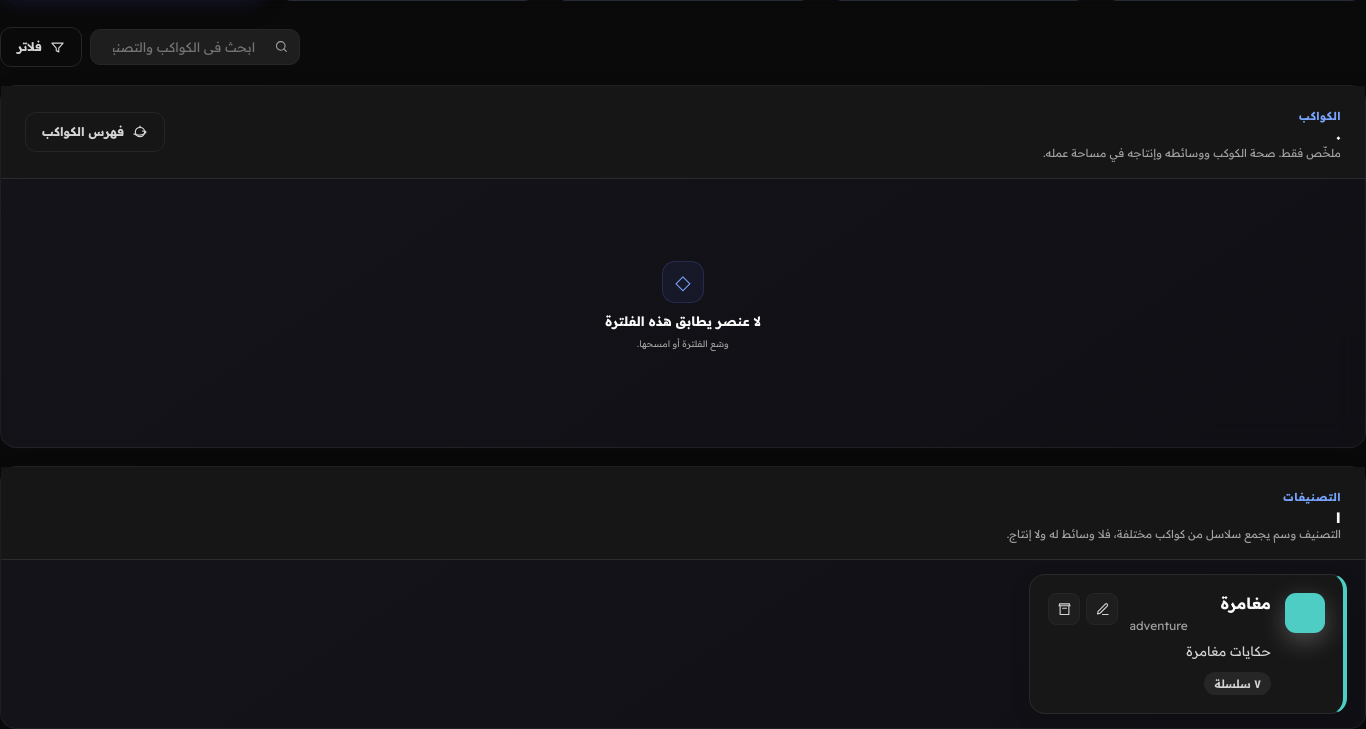
Test: TaxonomyPage › the slug is read-only when editing, because every link is built on it
(page scrolled)
Expected: the link "مغامرة" is shown, [1221,593,1271,613]
Click the button named "تعديل: مغامرة": (1102, 609) [1086,593,1118,625]
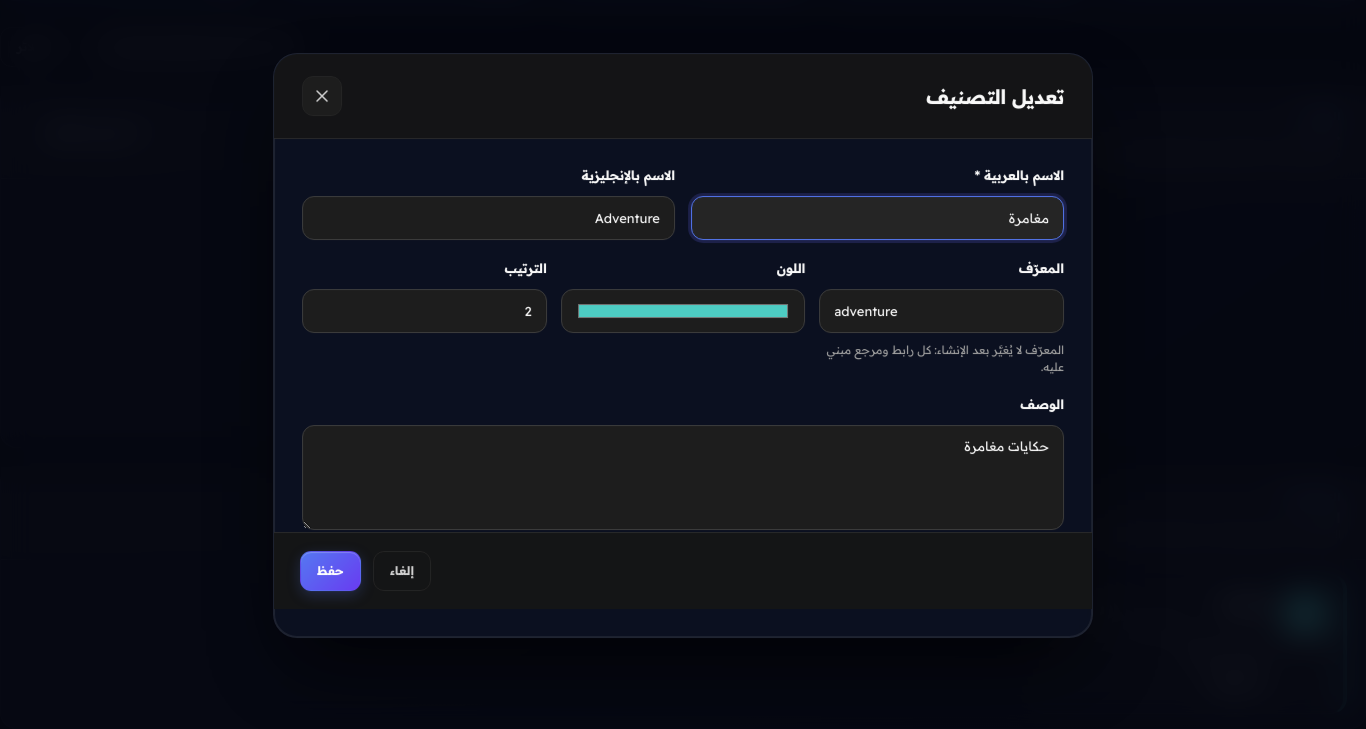
Now the dialog "تعديل التصنيف" is shown, box [273,53,1093,637]
Now the field labelled "المعرّف" is disabled, box [819,289,1064,333]
Now the text "المعرّف لا يُغيَّر بعد الإنشاء: كل رابط ومرجع مبني عليه." is shown, box [819,341,1064,375]
